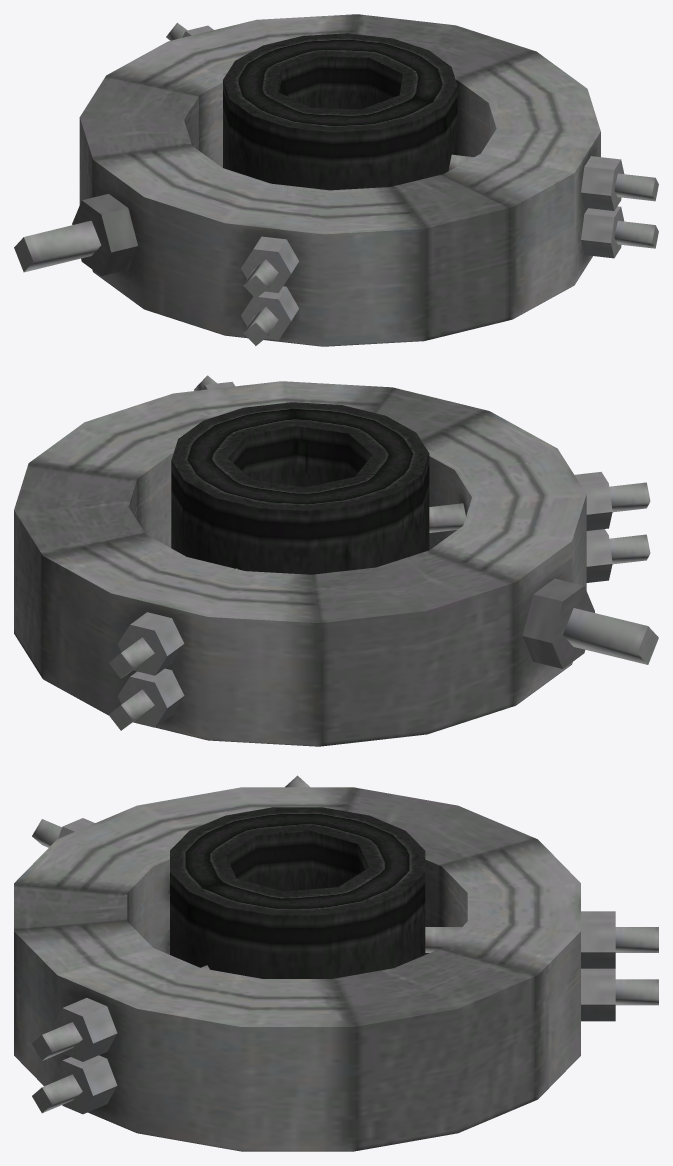
The model's file is ship_component_droidinterface_s01_l1.fbx.
3 renders of one model, top to bottom at view 1: azimuth 30°, elevation 25°; view 2: azimuth 150°, elevation 25°; view 3: azimuth 270°, elevation 25°, orthographic. The views are drawn at different scales.
Parts seen in each view (by area): view 1: mesh_node; view 2: mesh_node; view 3: mesh_node.
Part boxes in pixels (left/top/right/bottom): mesh_node: left=14, top=14, right=658, bottom=346; mesh_node: left=14, top=375, right=658, bottom=746; mesh_node: left=14, top=775, right=658, bottom=1151.
Bounding box in the file's own units: 0.4762 × 0.13 × 0.4462.
Materials: 1 (1 with a texture image).
